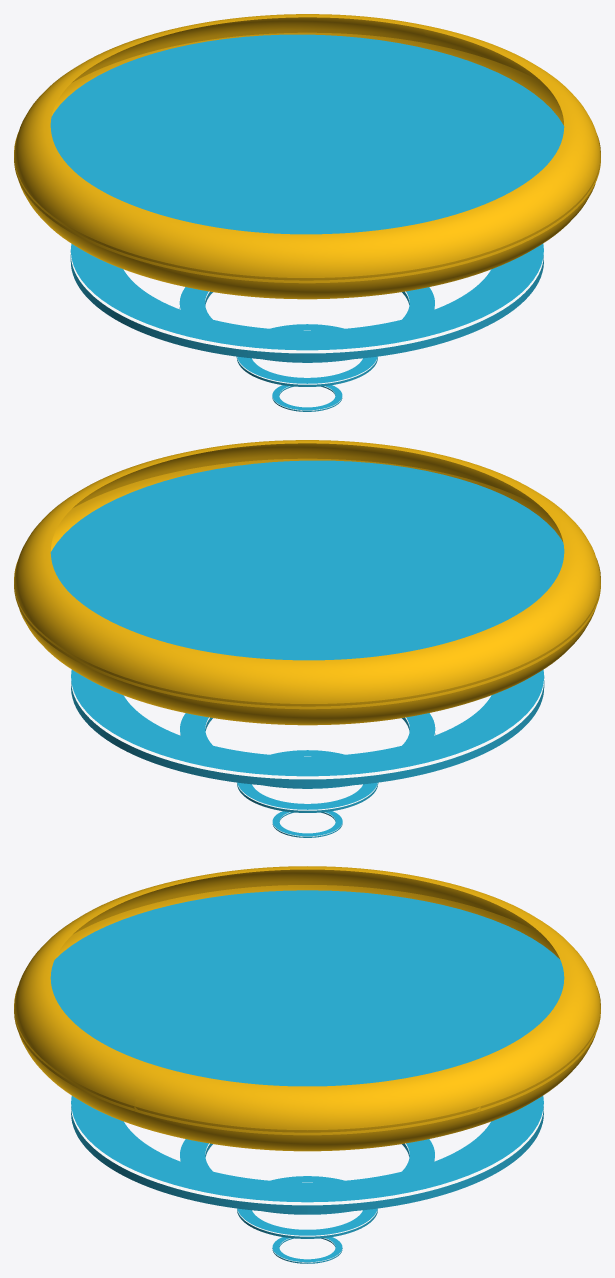
File: hoverPlatform.glb
3 renders of one model, top to bottom at view 1: azimuth 30°, elevation 25°; view 2: azimuth 150°, elevation 25°; view 3: azimuth 270°, elevation 25°, orthographic.
Parts seen in each view (by area): view 1: Object.016, Object.017, Object.013, Object.014, Object.012, Object.006, Object.002; view 2: Object.016, Object.017, Object.013, Object.014, Object.012, Object.006, Object.002; view 3: Object.016, Object.017, Object.013, Object.014, Object.012, Object.006, Object.002.
Boxes of the visible parts, x1,y1,x2,y2 form: Object.016: (50,34,564,234); Object.017: (14,14,600,299); Object.013: (70,243,543,350); Object.014: (70,251,543,361); Object.012: (70,252,543,353); Object.006: (237,324,377,383); Object.002: (179,287,434,352); Object.016: (50,460,564,660); Object.017: (14,440,600,725); Object.013: (71,669,544,776); Object.014: (71,677,544,787); Object.012: (71,678,544,779); Object.006: (237,750,377,809); Object.002: (180,713,435,778); Object.016: (50,890,564,1086); Object.017: (14,866,600,1151); Object.013: (71,1096,543,1202); Object.014: (71,1107,543,1212); Object.012: (71,1104,543,1205); Object.006: (237,1176,377,1235); Object.002: (180,1139,434,1204).
Size of the model in its own units: 15.98 by 8.14 by 15.99.
